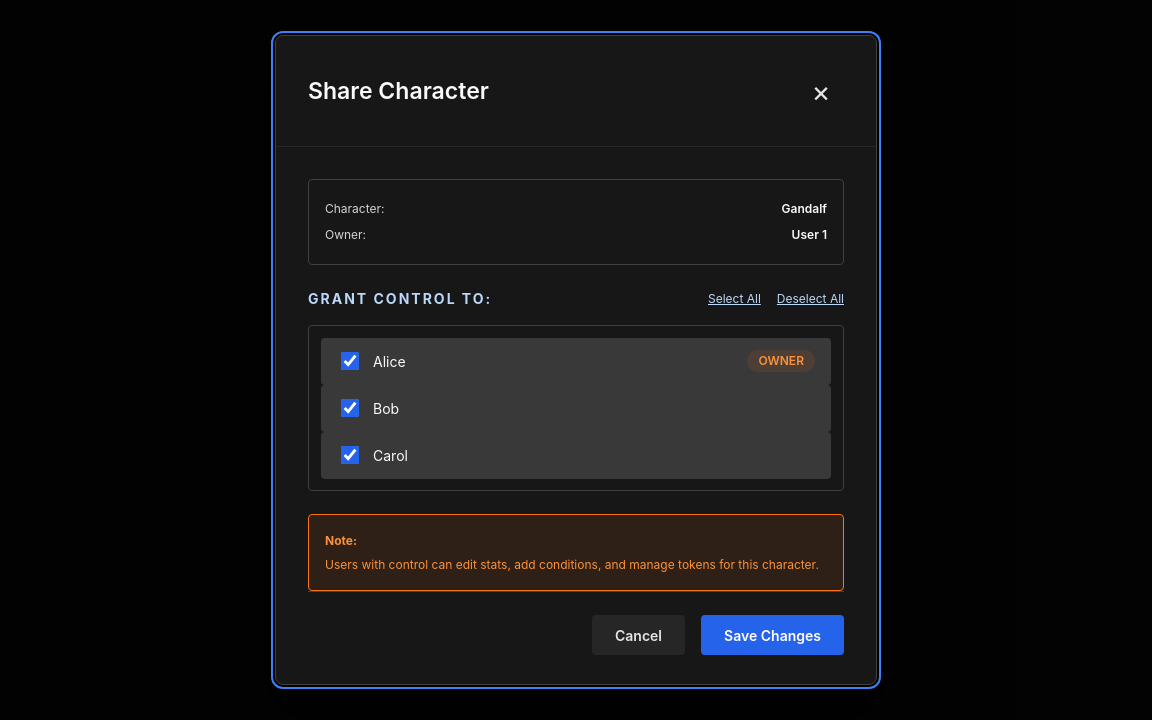
Scenario: ShareCharacterDialog › deselect all unchecks all users
The width and height of the screenshot is (1152, 720).
What coordinates should you click on to do the following:
click the button "Deselect All"
I would click on:
 (810, 299)
Its box is top-left (777, 291), bottom-right (844, 306).
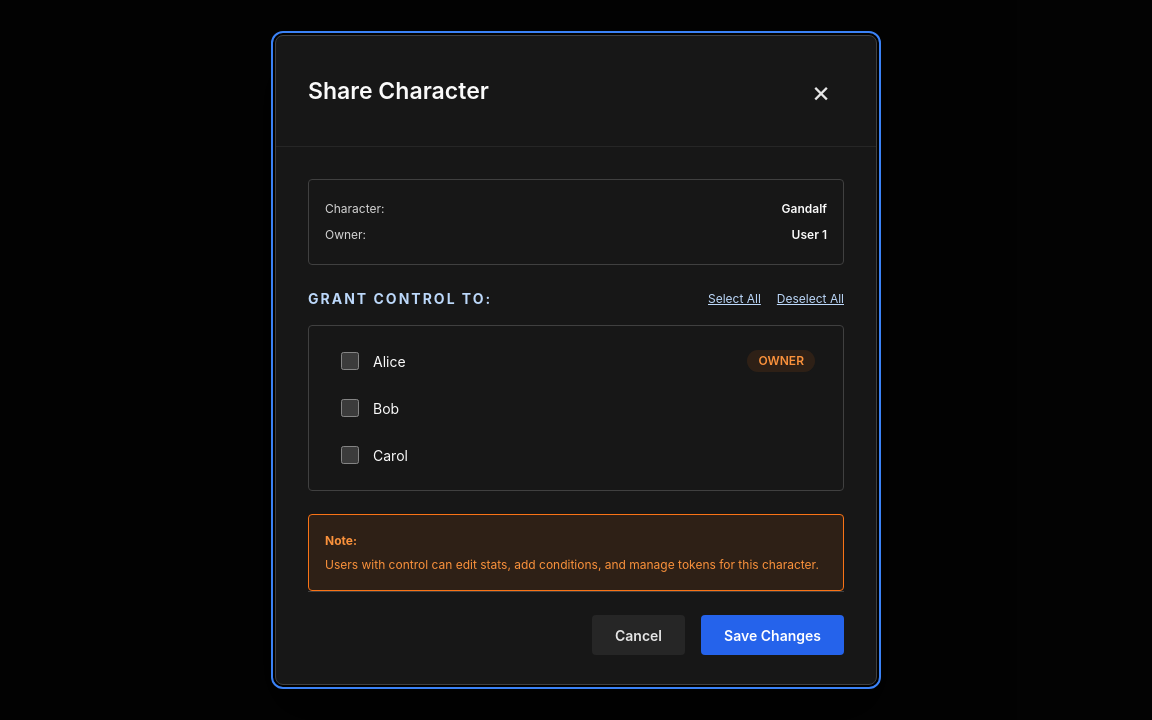
expect the checkbox labelled "Alice Owner" is not checked: met, box top-left (340, 352), bottom-right (358, 370)
expect the checkbox labelled "Bob" is not checked: met, box top-left (340, 399), bottom-right (358, 417)
expect the checkbox labelled "Carol" is not checked: met, box top-left (340, 446), bottom-right (358, 464)
